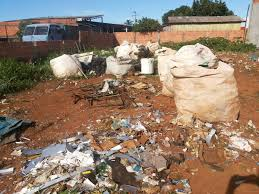rubble: (31, 120, 251, 194)
